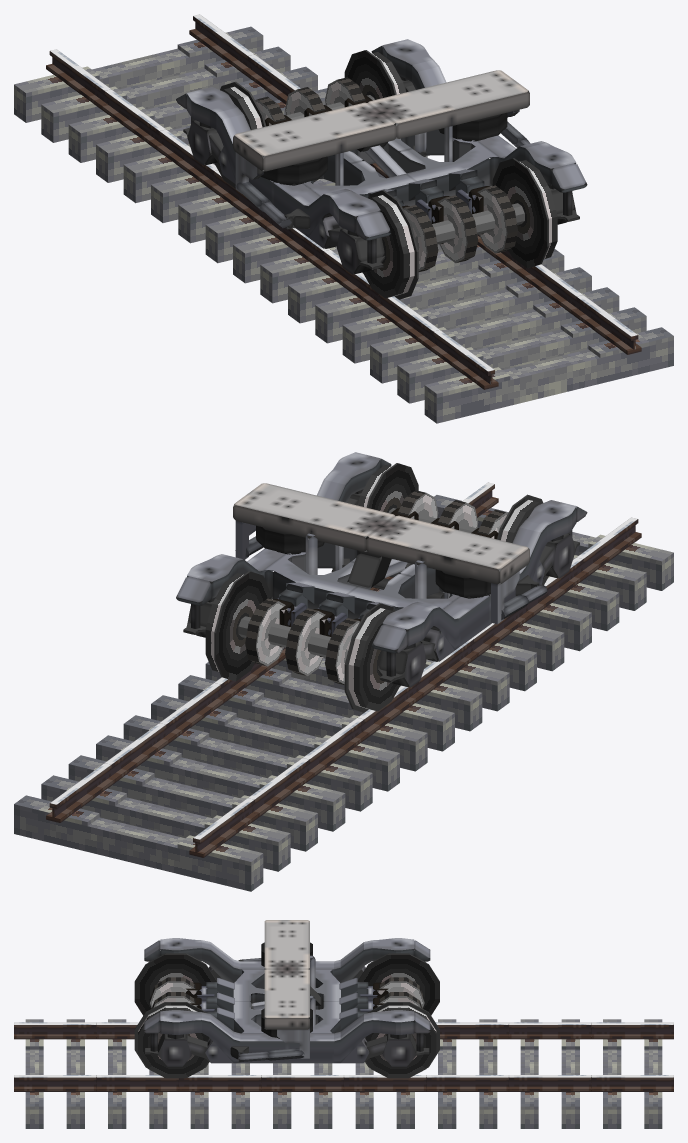
File: crh1_bogie_frame_trailer.obj
3 views of the same model, one above another, from view 1: azimuth 30°, elevation 25°; view 2: azimuth 150°, elevation 25°; view 3: azimuth 270°, elevation 25° (orthographic). The views are drawn at different scales.
Visible parts, largest first — view 1: cube, cylinder, 枕梁, cylinder_selection, U型构架, 八边形横梁, mesh, 外套筒, 抗蛇行减震器座子（枕梁端）, 牵引拉杆; view 2: cube, cylinder, 枕梁, cylinder_selection, U型构架, 八边形横梁, mesh, 抗蛇行减震器座子（枕梁端）, 牵引拉杆座子（枕梁端）, 垂向减震器; view 3: cube, U型构架, cylinder_selection, cylinder, 枕梁, mesh, 八边形横梁, 抗蛇行减震器座子（枕梁端）, 外套筒, 内活塞.
Part boxes in pixels (left/top/right/bottom): cube: left=14, top=14, right=673, bottom=423; cylinder: left=183, top=76, right=579, bottom=274; 枕梁: left=233, top=70, right=529, bottom=171; cylinder_selection: left=214, top=50, right=557, bottom=299; U型构架: left=186, top=39, right=576, bottom=248; 八边形横梁: left=273, top=129, right=498, bottom=206; mesh: left=176, top=45, right=587, bottom=243; 外套筒: left=235, top=121, right=529, bottom=211; 抗蛇行减震器座子（枕梁端）: left=235, top=109, right=519, bottom=193; 牵引拉杆: left=364, top=145, right=406, bottom=177; cube: left=14, top=482, right=673, bottom=891; cylinder: left=183, top=489, right=579, bottom=687; 枕梁: left=233, top=483, right=529, bottom=584; cylinder_selection: left=205, top=463, right=548, bottom=712; U型构架: left=187, top=452, right=576, bottom=661; 八边形横梁: left=264, top=542, right=490, bottom=618; mesh: left=176, top=458, right=587, bottom=656; 抗蛇行减震器座子（枕梁端）: left=235, top=521, right=519, bottom=624; 牵引拉杆座子（枕梁端）: left=347, top=536, right=391, bottom=587; 垂向减震器: left=305, top=533, right=426, bottom=598; cube: left=14, top=1019, right=673, bottom=1128; U型构架: left=160, top=938, right=414, bottom=1063; cylinder_selection: left=134, top=953, right=439, bottom=1078; cylinder: left=145, top=942, right=429, bottom=1066; 枕梁: left=264, top=920, right=309, bottom=1029; mesh: left=144, top=940, right=430, bottom=1033; 八边形横梁: left=233, top=969, right=340, bottom=1033; 抗蛇行减震器座子（枕梁端）: left=277, top=1028, right=309, bottom=1058; 外套筒: left=267, top=1048, right=304, bottom=1060; 内活塞: left=238, top=958, right=269, bottom=1061.
Bounding box in the file's own units: 2.85 × 1.56 × 8.
4 materials, 4 textured.
